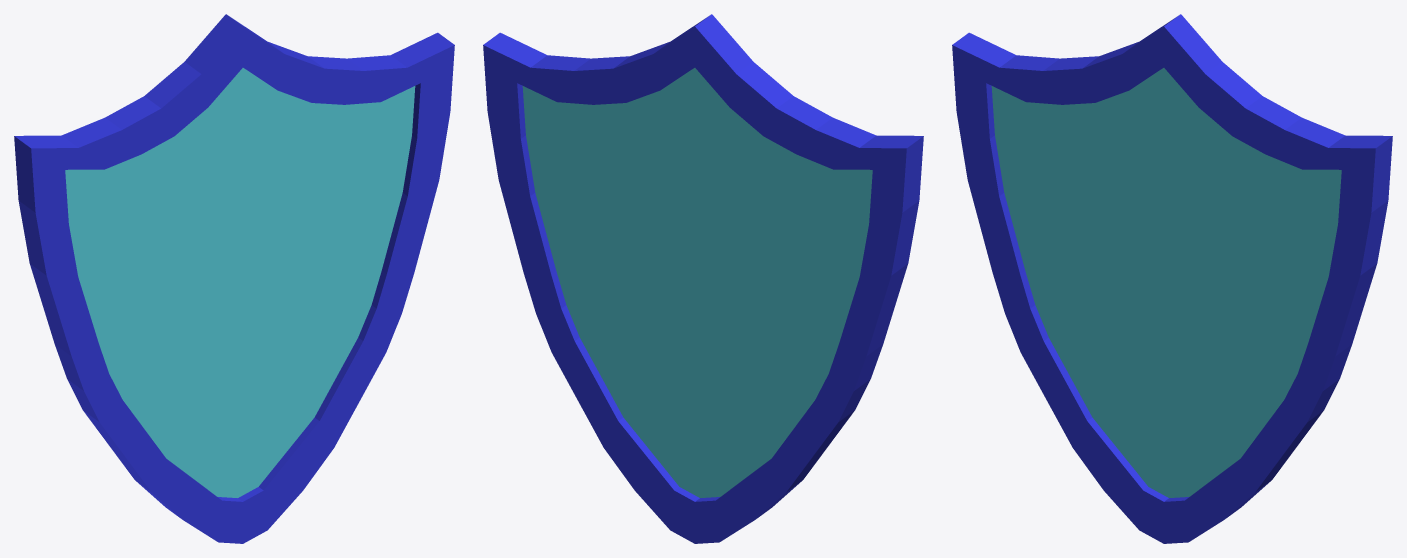
The model's file is FullShield.fbx.
The picture shows the model from 3 angles, left to right: view 1: azimuth 30°, elevation 25°; view 2: azimuth 150°, elevation 25°; view 3: azimuth 330°, elevation 25°; orthographic projection.
Visible parts, largest first — view 1: Plane.001, Plane; view 2: Plane.001, Plane; view 3: Plane.001, Plane.
Part boxes in pixels (left/top/right/bottom): Plane.001: left=65, top=68, right=415, bottom=497; Plane: left=14, top=14, right=454, bottom=543; Plane.001: left=522, top=68, right=872, bottom=497; Plane: left=483, top=14, right=923, bottom=543; Plane.001: left=991, top=68, right=1341, bottom=497; Plane: left=952, top=14, right=1392, bottom=543.
Size of the model in its own units: 76.49 by 89.27 by 5.33.
